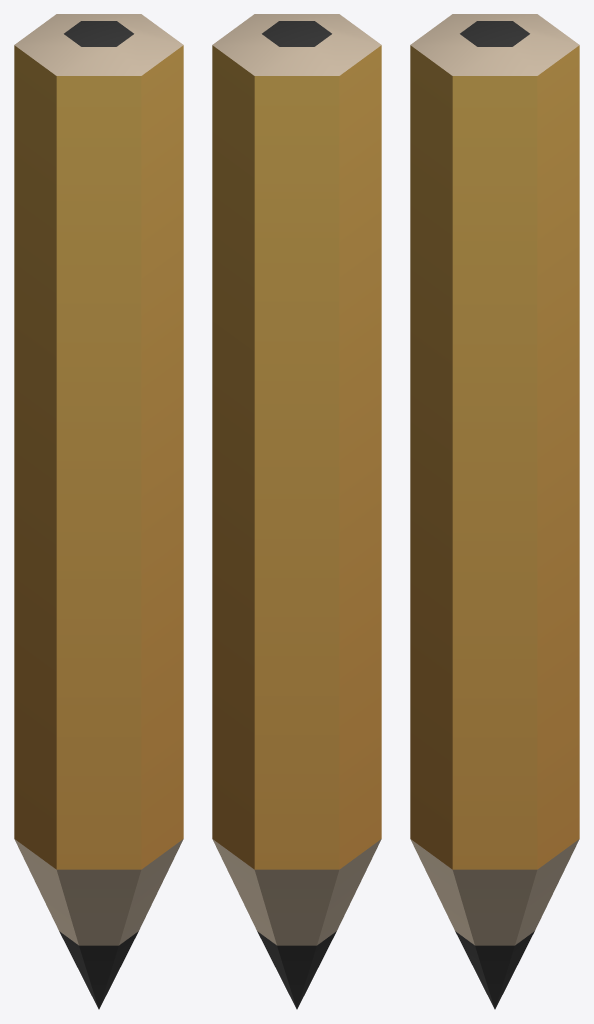
The model's file is pencil_a_long.glb.
3 renders of one model, left to right at view 1: azimuth 30°, elevation 25°; view 2: azimuth 150°, elevation 25°; view 3: azimuth 270°, elevation 25°, orthographic.
Visible parts, largest first — view 1: pencil_A_long; view 2: pencil_A_long; view 3: pencil_A_long.
Part boxes in pixels (bbox=[...]): pencil_A_long: bbox=[14, 14, 183, 1009]; pencil_A_long: bbox=[212, 14, 381, 1009]; pencil_A_long: bbox=[410, 14, 579, 1009].
Size of the model in its own units: 0.0516 by 0.3787 by 0.0596.
1 material, 1 textured.
